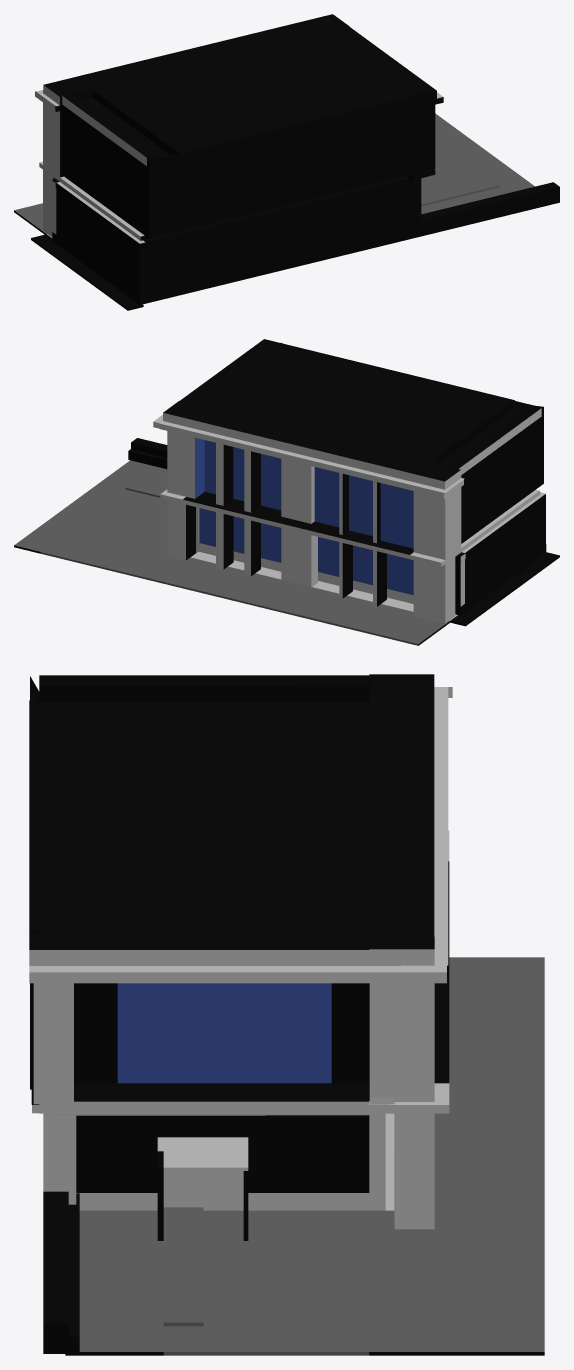
File: Budynek firmowy .fbx
The picture shows the model from 3 angles, top to bottom: view 1: azimuth 30°, elevation 25°; view 2: azimuth 150°, elevation 25°; view 3: azimuth 270°, elevation 25°; orthographic projection. The views are drawn at different scales.
Visible parts, largest first — view 1: Cube; view 2: Cube; view 3: Cube.
Part boxes in pixels (left/top/right/bottom): Cube: left=14, top=14, right=559, bottom=310; Cube: left=14, top=339, right=559, bottom=645; Cube: left=29, top=674, right=544, bottom=1355.
Bounding box in the file's own units: 9977 × 3444 × 5276.
